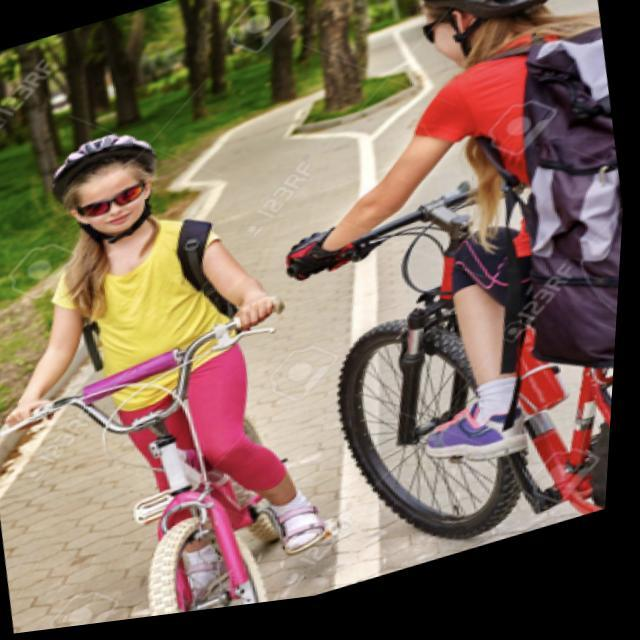Helmet: (45, 118, 176, 252)
